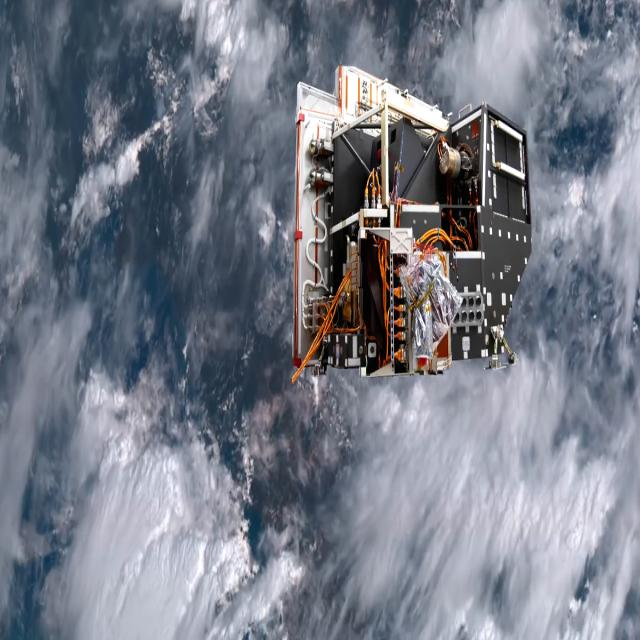medium_debris: (286, 50, 544, 401)
